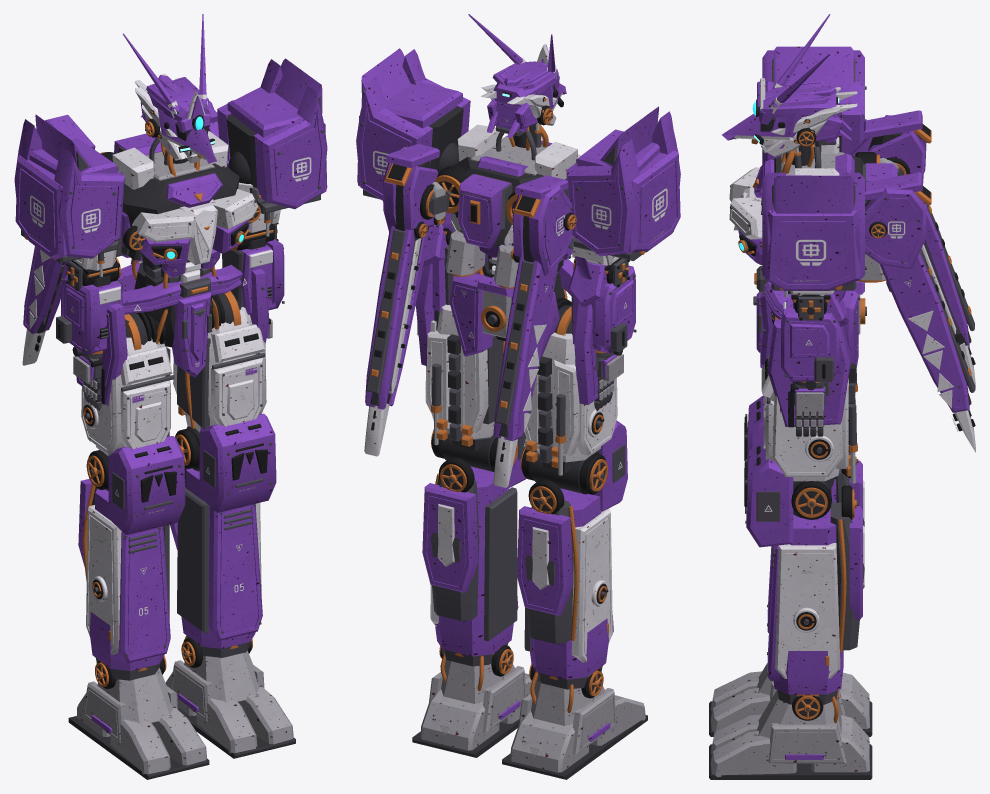
3 renders of one model, left to right at view 1: azimuth 30°, elevation 25°; view 2: azimuth 150°, elevation 25°; view 3: azimuth 270°, elevation 25°, orthographic. The views are drawn at different scales.
Parts seen in each view (by area): view 1: pl_purple_14, pl_purple_42, pl_purple_111, pl_kneeblock_12, pl_kneeblock_40, pl_purple_151, pl_dark2_16, pl_white_43, pl_purple_153, pl_chestcore_83, pl_footblock_22, pl_footblock_50 (+59 smaller); view 2: pl_purple_152, pl_dark2_16, pl_white_43, pl_purple_112, pl_purple_46, pl_purple_18, pl_purple_153, pl_shinblock_13, pl_shinblock_41, pl_blade_245, pl_heel_27, pl_heel_55 (+81 smaller); view 3: pl_white_15, pl_purple_113, pl_blade_232, pl_purple_226, pl_shinblock_13, pl_kneeblock_12, pl_horn_115, pl_white_7, pl_purple_63, pl_gray_26, pl_horn_155, pl_toe_25 (+45 smaller).
Part boxes in pixels (x1,y1,x2,y2): pl_purple_14: (208,504,262,640); pl_purple_42: (118,526,170,663); pl_purple_111: (253,85,327,209); pl_kneeblock_12: (199,413,276,512); pl_kneeblock_40: (108,436,185,534); pl_purple_151: (54,146,124,258); pl_dark2_16: (177,487,208,633); pl_white_43: (86,505,121,654); pl_purple_153: (15,155,67,260); pl_chestcore_83: (122,163,239,226); pl_footblock_22: (184,650,259,701); pl_footblock_50: (97,667,172,722); pl_purple_152: (566,139,640,256); pl_dark2_16: (484,487,517,641); pl_white_43: (571,508,612,662); pl_purple_112: (356,76,432,200); pl_purple_46: (517,506,572,615); pl_purple_18: (422,483,478,592); pl_purple_153: (628,148,680,252); pl_shinblock_13: (435,466,513,656); pl_shinblock_41: (530,488,608,679); pl_blade_245: (504,261,558,441); pl_heel_27: (420,689,499,750); pl_heel_55: (510,711,588,772); pl_white_15: (775,543,840,678); pl_purple_113: (764,210,860,290); pl_blade_232: (880,252,969,412); pl_purple_226: (865,184,926,269); pl_shinblock_13: (773,508,843,694); pl_kneeblock_12: (746,440,793,547); pl_horn_115: (774,176,853,213); pl_white_7: (772,394,842,476); pl_purple_63: (767,319,851,426); pl_gray_26: (768,723,846,763); pl_horn_155: (774,46,853,87); pl_toe_25: (710,731,796,777).
Size of the model in its own units: 4.86 by 11.98 by 4.08.
Materials: 11 (4 with a texture image).
